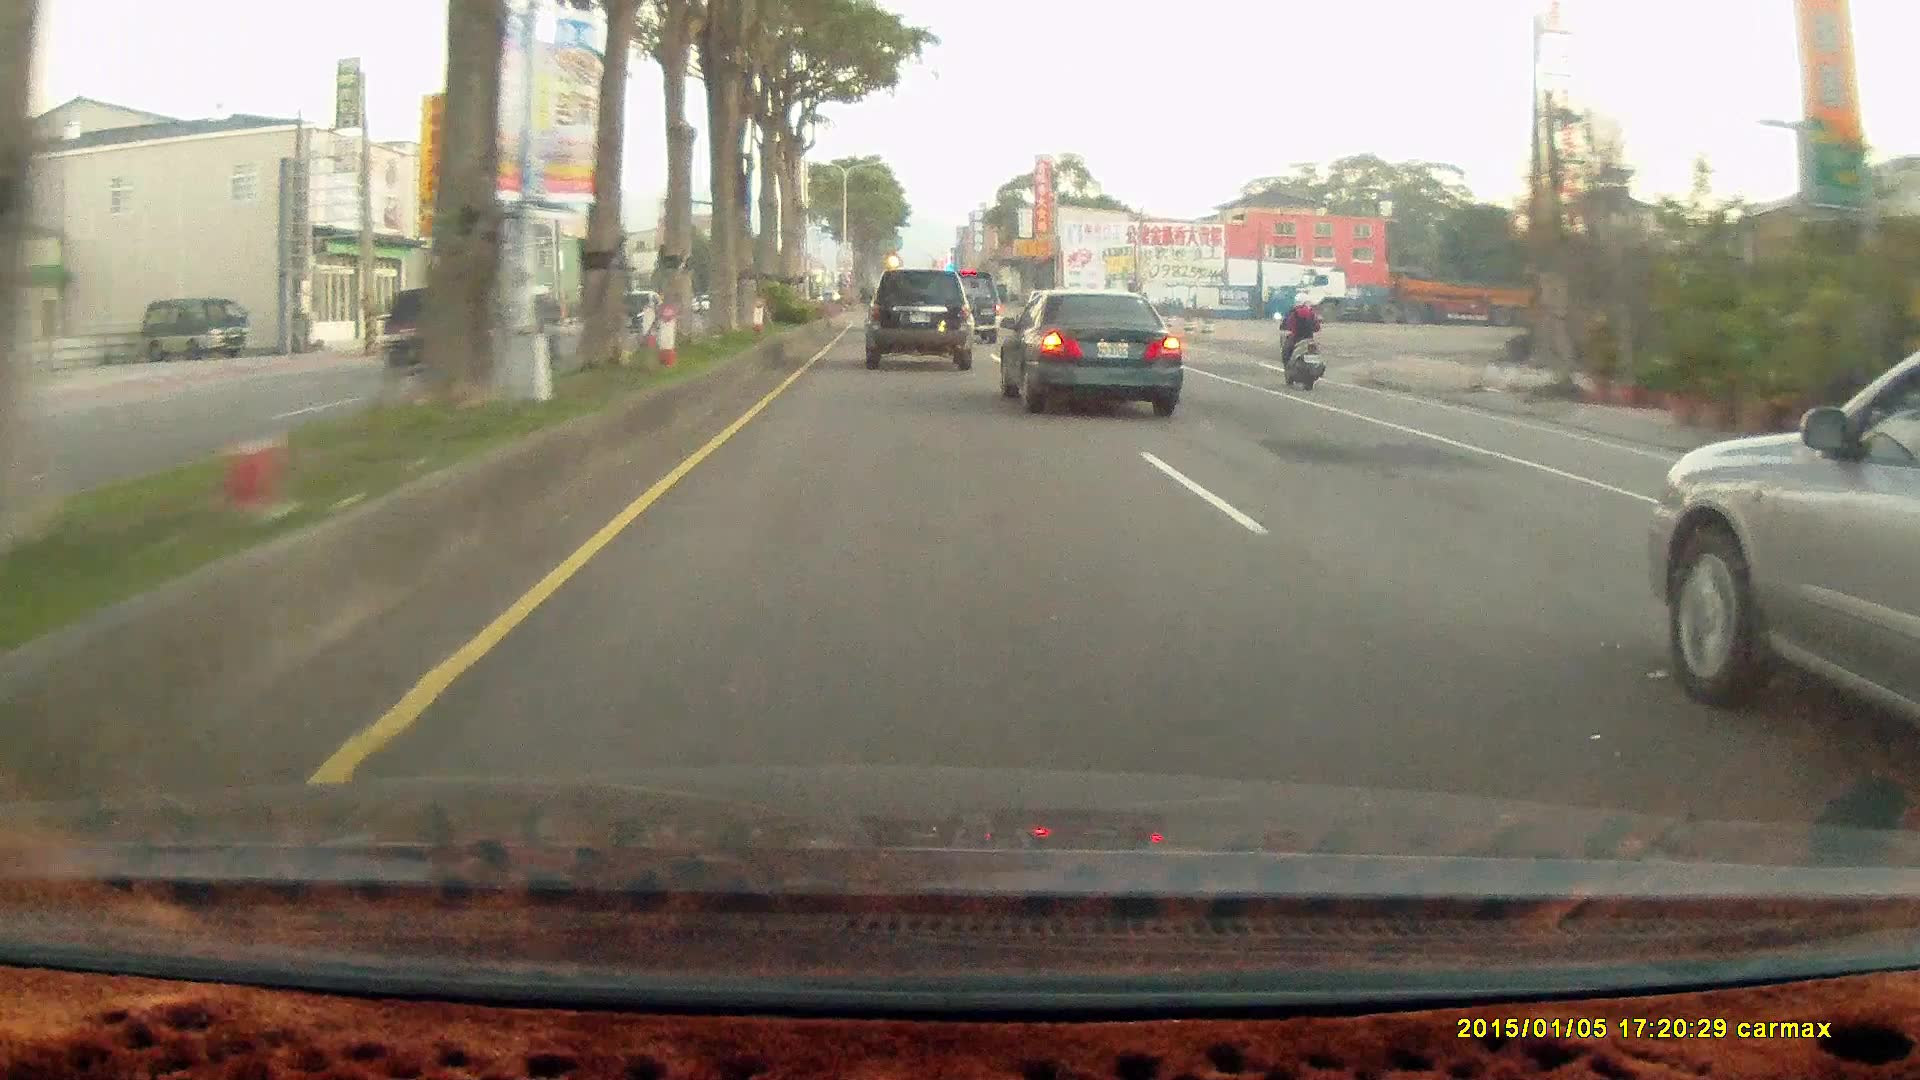rider: (1270, 286, 1333, 395), (1273, 287, 1326, 389)
vehicle: (1654, 344, 1919, 767), (997, 290, 1187, 416), (999, 286, 1183, 414), (1301, 266, 1556, 326), (864, 269, 977, 372), (861, 269, 975, 370), (379, 285, 501, 378), (140, 301, 251, 366), (140, 298, 250, 362), (933, 272, 1003, 347)
